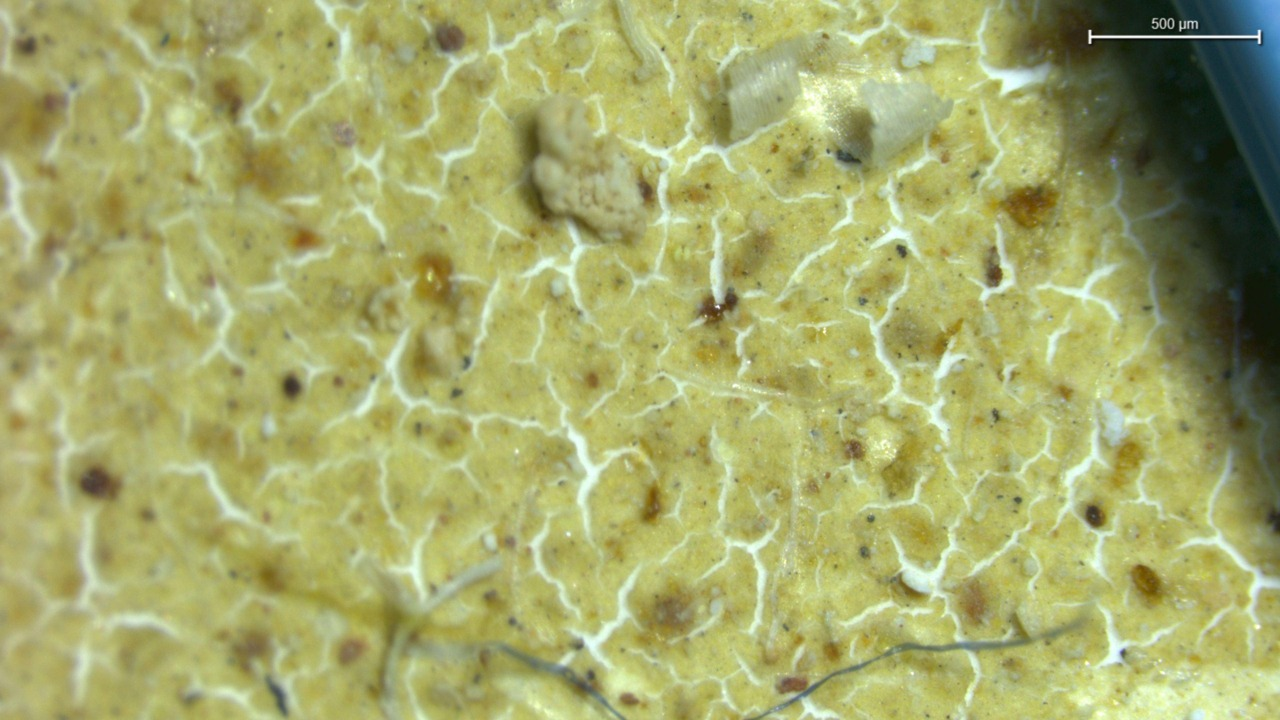microplastic_fragment: (531, 94, 646, 240), (1097, 401, 1128, 446), (899, 568, 935, 594)
